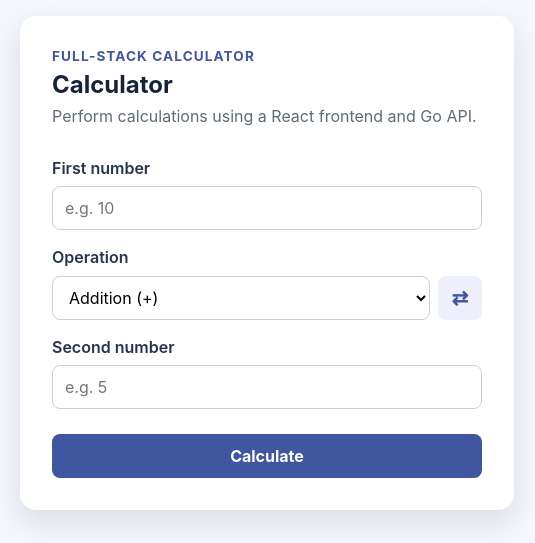
Test: Calculator app › hides the second-number input when square root is selected
Expected: the number field labelled "Second number" is shown, left=52, top=366, right=482, bottom=410
Select "Square Root (√)" in the dropdown labelled "Operation" at (241, 298), box left=52, top=276, right=430, bottom=320
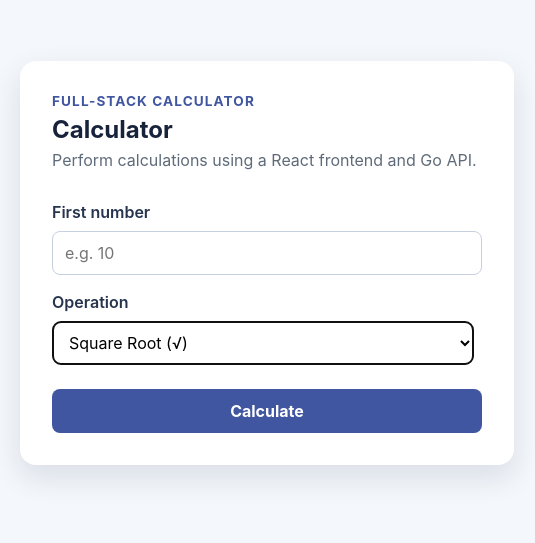
Expected: the label "Second number" is gone
